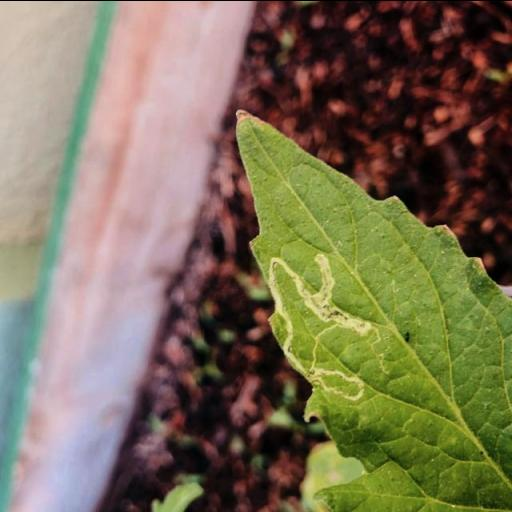Leaf Miner: (230, 103, 512, 512)
